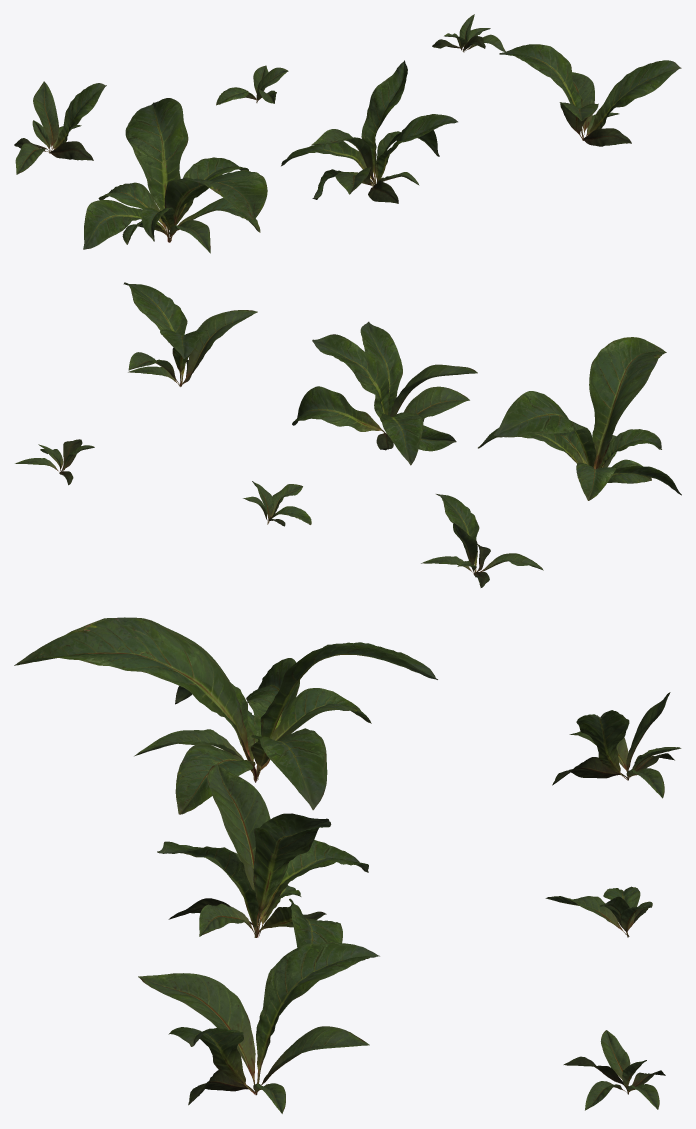
Rendered from anthurium_botany_01_draco.glb.
The picture shows the model from 3 angles, top to bottom: view 1: azimuth 30°, elevation 25°; view 2: azimuth 150°, elevation 25°; view 3: azimuth 270°, elevation 25°; orthographic projection. The views are drawn at different scales.
Parts seen in each view (by area): view 1: anthurium_botany_01_a, anthurium_botany_01_b, anthurium_botany_01_c, anthurium_botany_04_d, anthurium_botany_05_e, anthurium_botany_06_f; view 2: anthurium_botany_01_a, anthurium_botany_01_b, anthurium_botany_01_c, anthurium_botany_04_d, anthurium_botany_05_e, anthurium_botany_06_f; view 3: anthurium_botany_01_a, anthurium_botany_01_b, anthurium_botany_01_c, anthurium_botany_04_d, anthurium_botany_06_f, anthurium_botany_05_e.
Part boxes in pixels (bbox=[...]): anthurium_botany_01_a: bbox=[83, 98, 267, 253]; anthurium_botany_01_b: bbox=[281, 60, 457, 203]; anthurium_botany_01_c: bbox=[499, 44, 681, 146]; anthurium_botany_04_d: bbox=[14, 81, 106, 174]; anthurium_botany_05_e: bbox=[216, 65, 288, 105]; anthurium_botany_06_f: bbox=[432, 14, 505, 52]; anthurium_botany_01_a: bbox=[478, 337, 681, 500]; anthurium_botany_01_b: bbox=[292, 321, 477, 465]; anthurium_botany_01_c: bbox=[123, 282, 257, 386]; anthurium_botany_04_d: bbox=[421, 494, 543, 587]; anthurium_botany_05_e: bbox=[243, 481, 311, 526]; anthurium_botany_06_f: bbox=[15, 439, 94, 485]; anthurium_botany_01_a: bbox=[14, 617, 437, 814]; anthurium_botany_01_b: bbox=[157, 763, 368, 981]; anthurium_botany_01_c: bbox=[138, 942, 379, 1113]; anthurium_botany_04_d: bbox=[552, 692, 681, 798]; anthurium_botany_06_f: bbox=[563, 1030, 665, 1110]; anthurium_botany_05_e: bbox=[545, 886, 652, 937].
Bounding box in the file's own units: 2.8 × 0.4998 × 1.8.
1 material, 1 textured.
